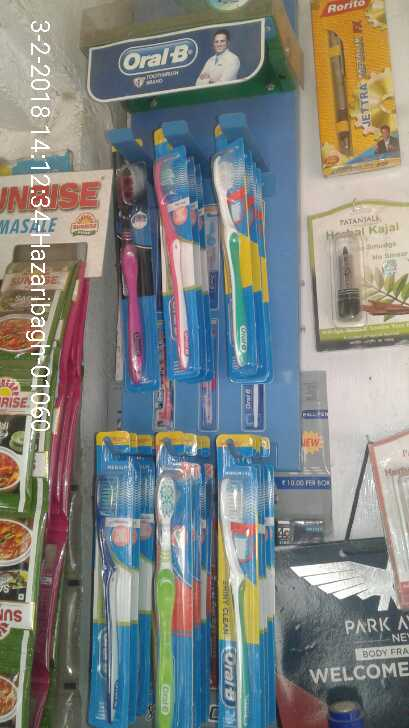oralb: (198, 462, 266, 720), (211, 152, 265, 376), (89, 432, 128, 727), (152, 157, 202, 367), (107, 162, 149, 393), (150, 467, 177, 728)
